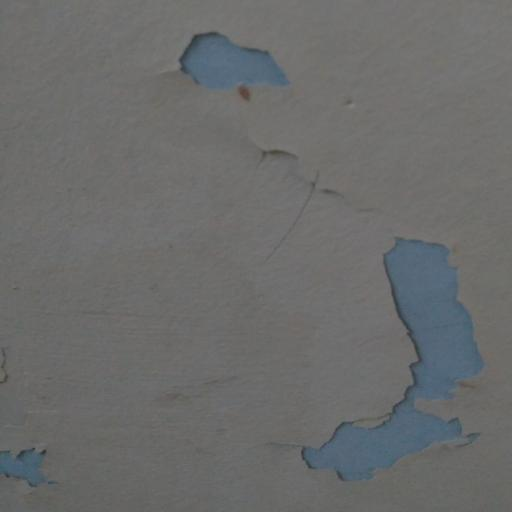peeling: (279, 210, 486, 491), (168, 21, 298, 114), (237, 133, 355, 225), (0, 443, 77, 494)
